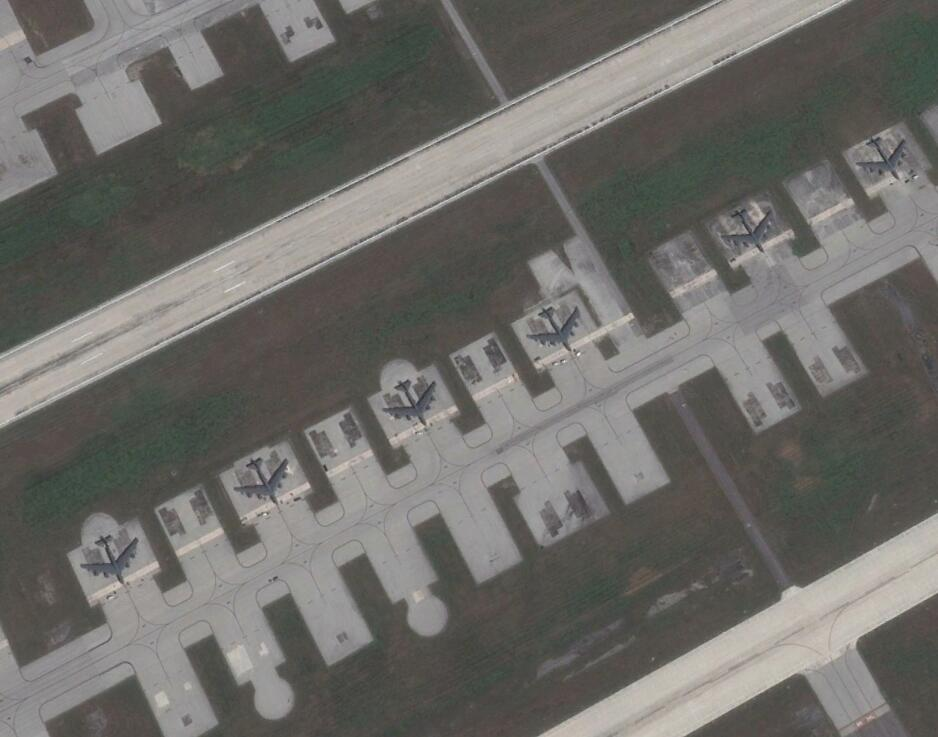A8: (77, 530, 142, 591), (235, 455, 294, 508), (383, 381, 444, 429), (529, 304, 584, 355), (720, 208, 777, 257), (858, 134, 911, 183)
